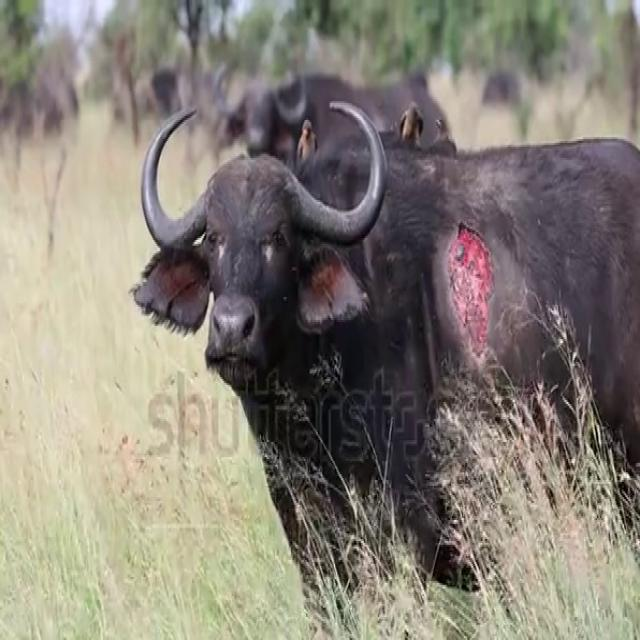injured-animals: (129, 92, 637, 592)
